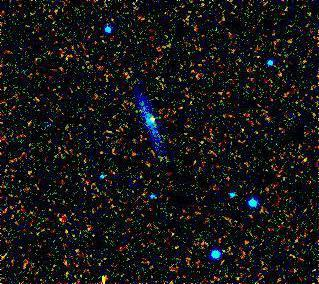star: (143, 107, 173, 137)
